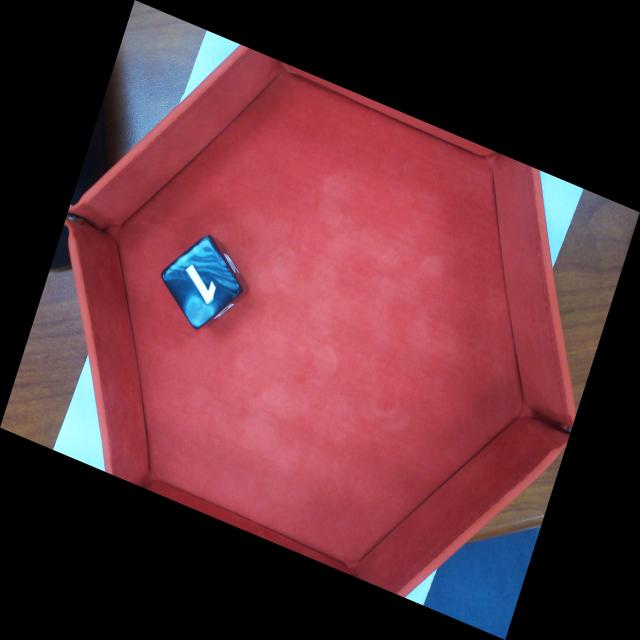dice: (162, 237, 247, 328)
